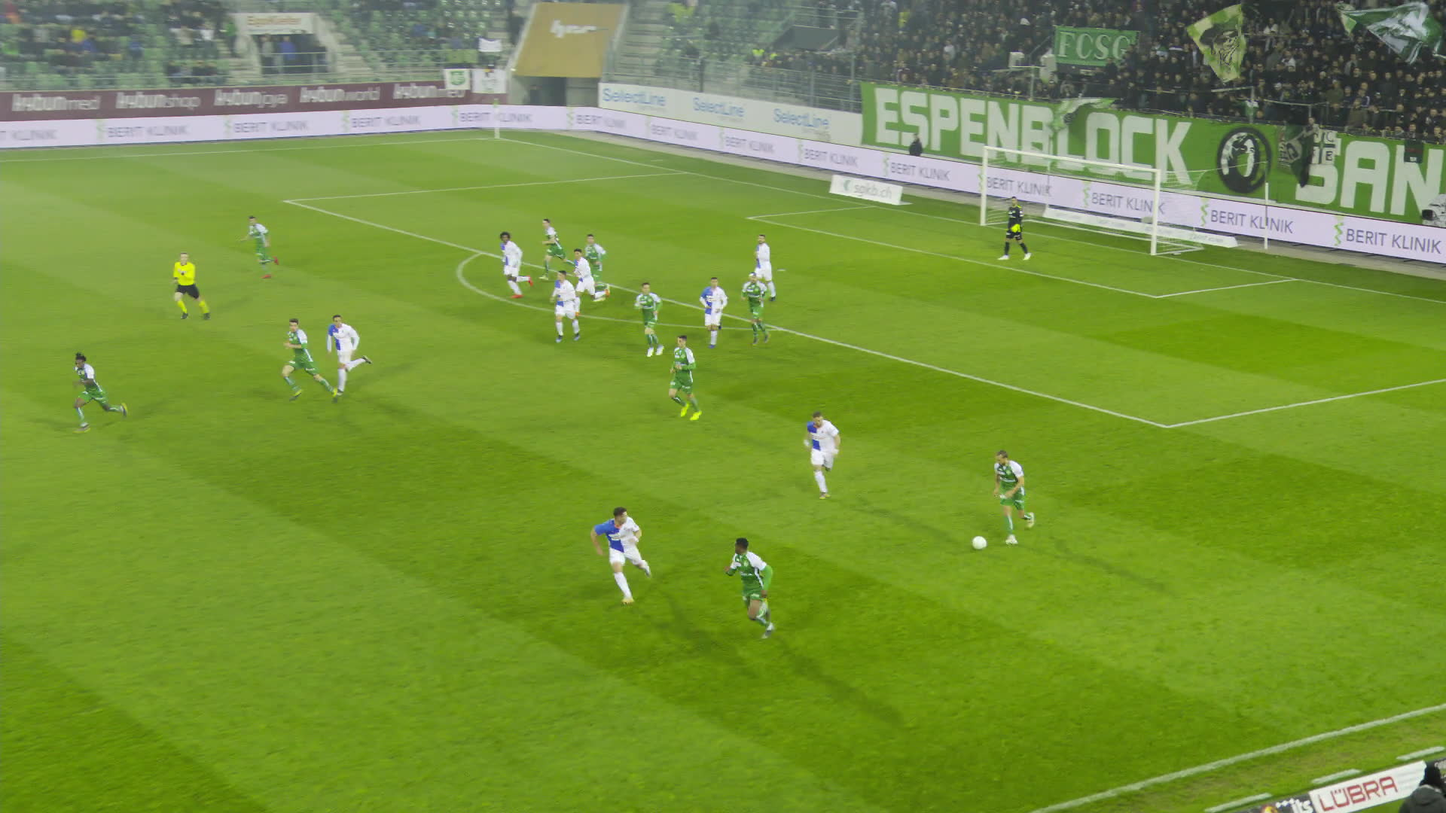ball: (972, 535, 986, 548)
player: (586, 505, 654, 598), (725, 536, 776, 644), (281, 319, 338, 404), (71, 351, 128, 434), (992, 449, 1034, 545), (803, 411, 840, 500), (668, 332, 702, 422), (325, 315, 365, 391), (238, 214, 282, 279), (570, 248, 609, 318), (538, 218, 578, 280), (497, 230, 532, 300), (548, 269, 581, 343), (740, 272, 771, 346), (694, 274, 725, 348), (630, 282, 660, 356), (997, 196, 1030, 260), (582, 233, 610, 295), (748, 234, 770, 301)
referee: (172, 251, 210, 321)
